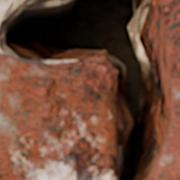broken_brick: (0, 53, 116, 179), (153, 0, 179, 179)
crack: (0, 0, 178, 179)
